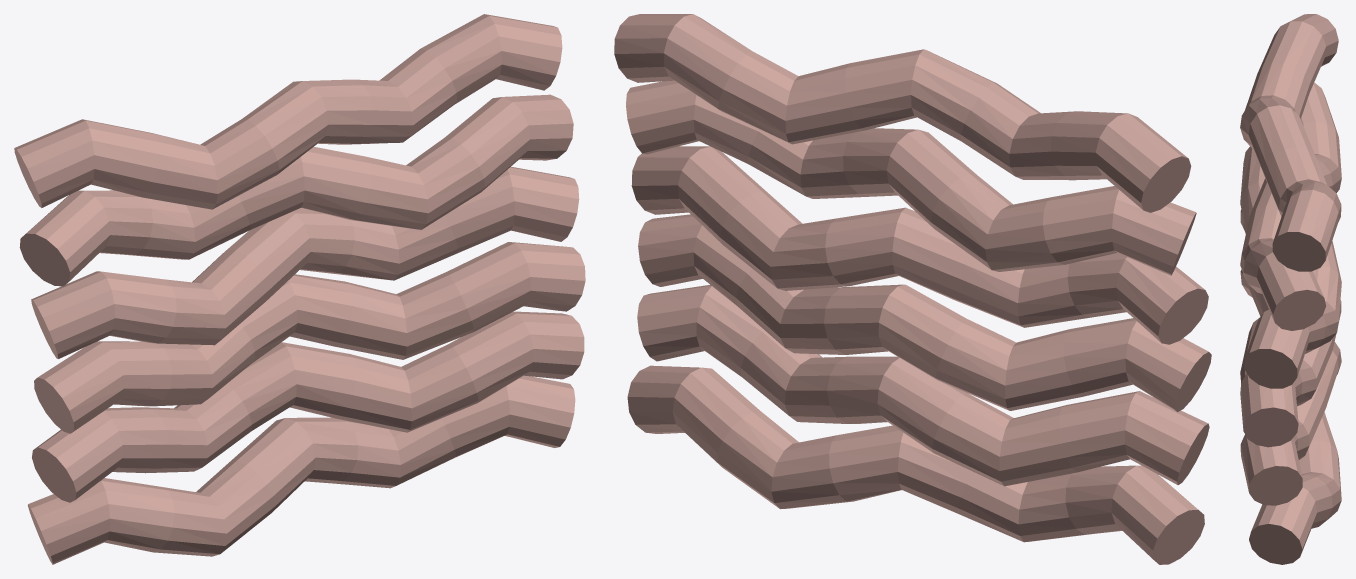
File: small_bowel.glb
The picture shows the model from 3 angles, left to right: view 1: azimuth 30°, elevation 25°; view 2: azimuth 150°, elevation 25°; view 3: azimuth 270°, elevation 25°; orthographic projection. The views are drawn at different scales.
Parts seen in each view (by area): view 1: small_bowel; view 2: small_bowel; view 3: small_bowel.
Part boxes in pixels (left/top/right/bottom): small_bowel: left=14, top=14, right=585, bottom=564; small_bowel: left=614, top=14, right=1211, bottom=564; small_bowel: left=1240, top=14, right=1341, bottom=564.
Size of the model in its own units: 0.1781 by 0.1409 by 0.0347.
